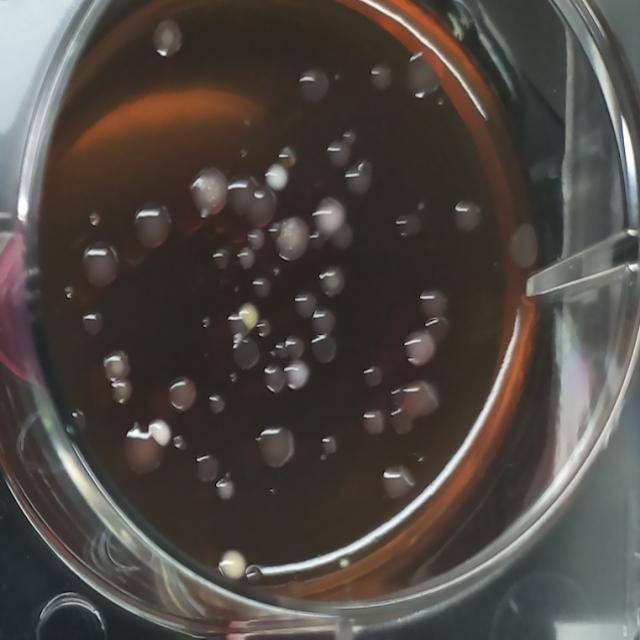Alteromonas: (362, 362, 386, 392)
Bacillus: (310, 194, 350, 241)
Pseudoalteromonas: (400, 328, 437, 368)
Staphylococcus: (217, 546, 251, 584), (282, 358, 311, 396), (147, 414, 176, 451), (262, 162, 290, 194), (237, 301, 261, 334)
